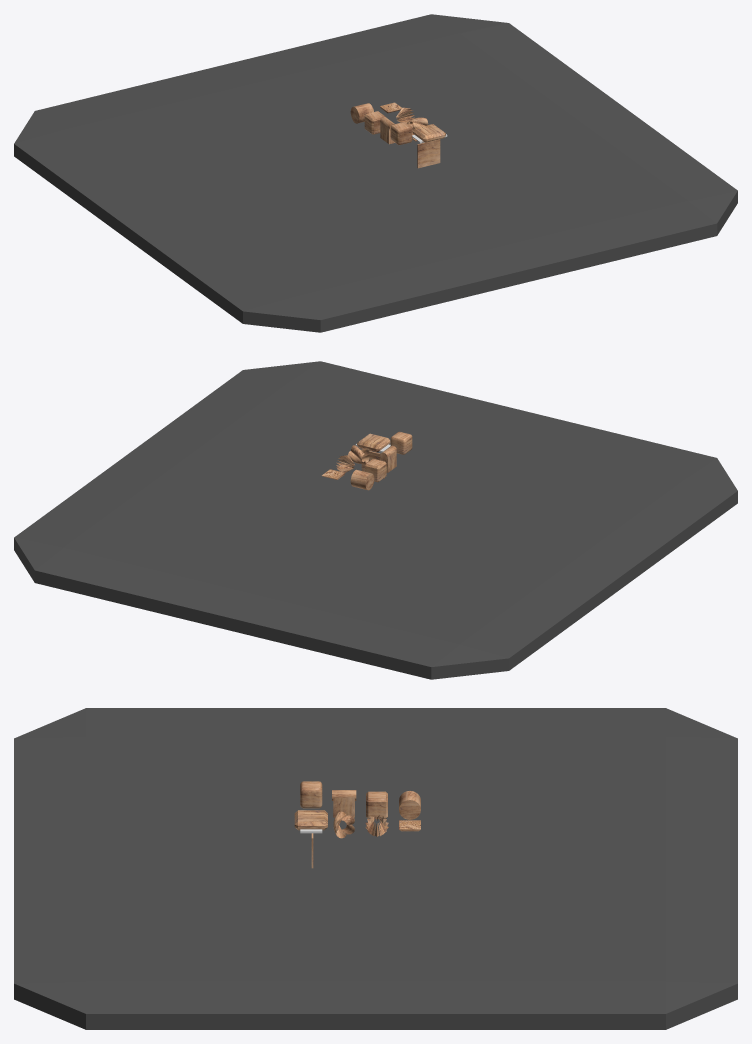
File: parts.glb
The picture shows the model from 3 angles, top to bottom: view 1: azimuth 30°, elevation 25°; view 2: azimuth 150°, elevation 25°; view 3: azimuth 270°, elevation 25°; orthographic projection. The views are drawn at different scales.
Visible parts, largest first — view 1: Cube.012, grill; view 2: Cube.012; view 3: Cube.012, belt-frame, cube-round, cube-bevel, cylinder.
Part boxes in pixels (x1,y1,x2,y2): Cube.012: [14, 14, 737, 332]; grill: [417, 139, 440, 168]; Cube.012: [14, 361, 737, 679]; Cube.012: [14, 708, 737, 1029]; belt-frame: [294, 810, 327, 830]; cube-round: [300, 781, 322, 808]; cube-bevel: [366, 791, 387, 818]; cylinder: [399, 791, 420, 819].
Size of the model in its own units: 66 by 9.46 by 66.
Materials: 2 (1 with a texture image).
